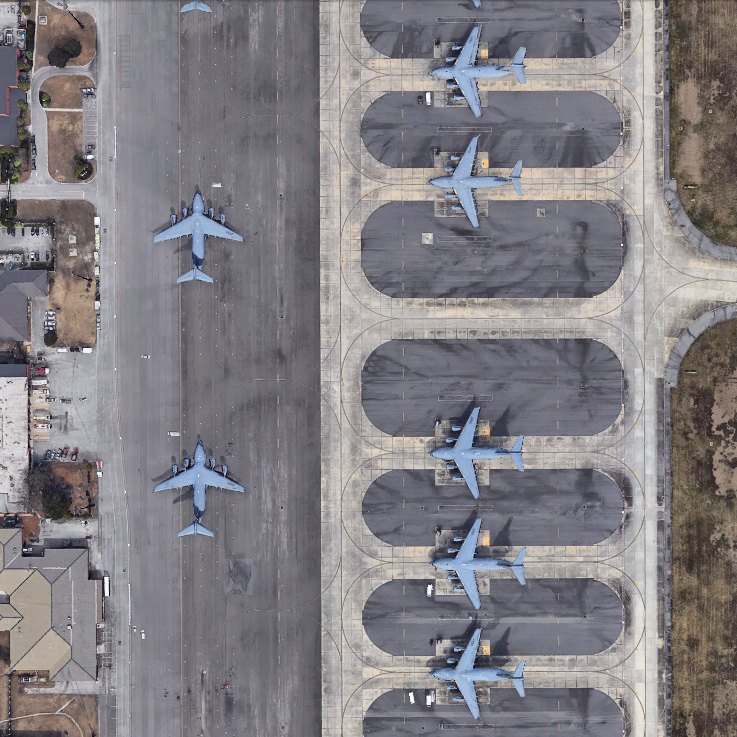A3: (430, 22, 529, 120), (427, 133, 527, 229), (430, 516, 529, 611), (430, 626, 529, 721), (154, 439, 248, 539), (429, 403, 526, 499), (152, 189, 247, 285)
